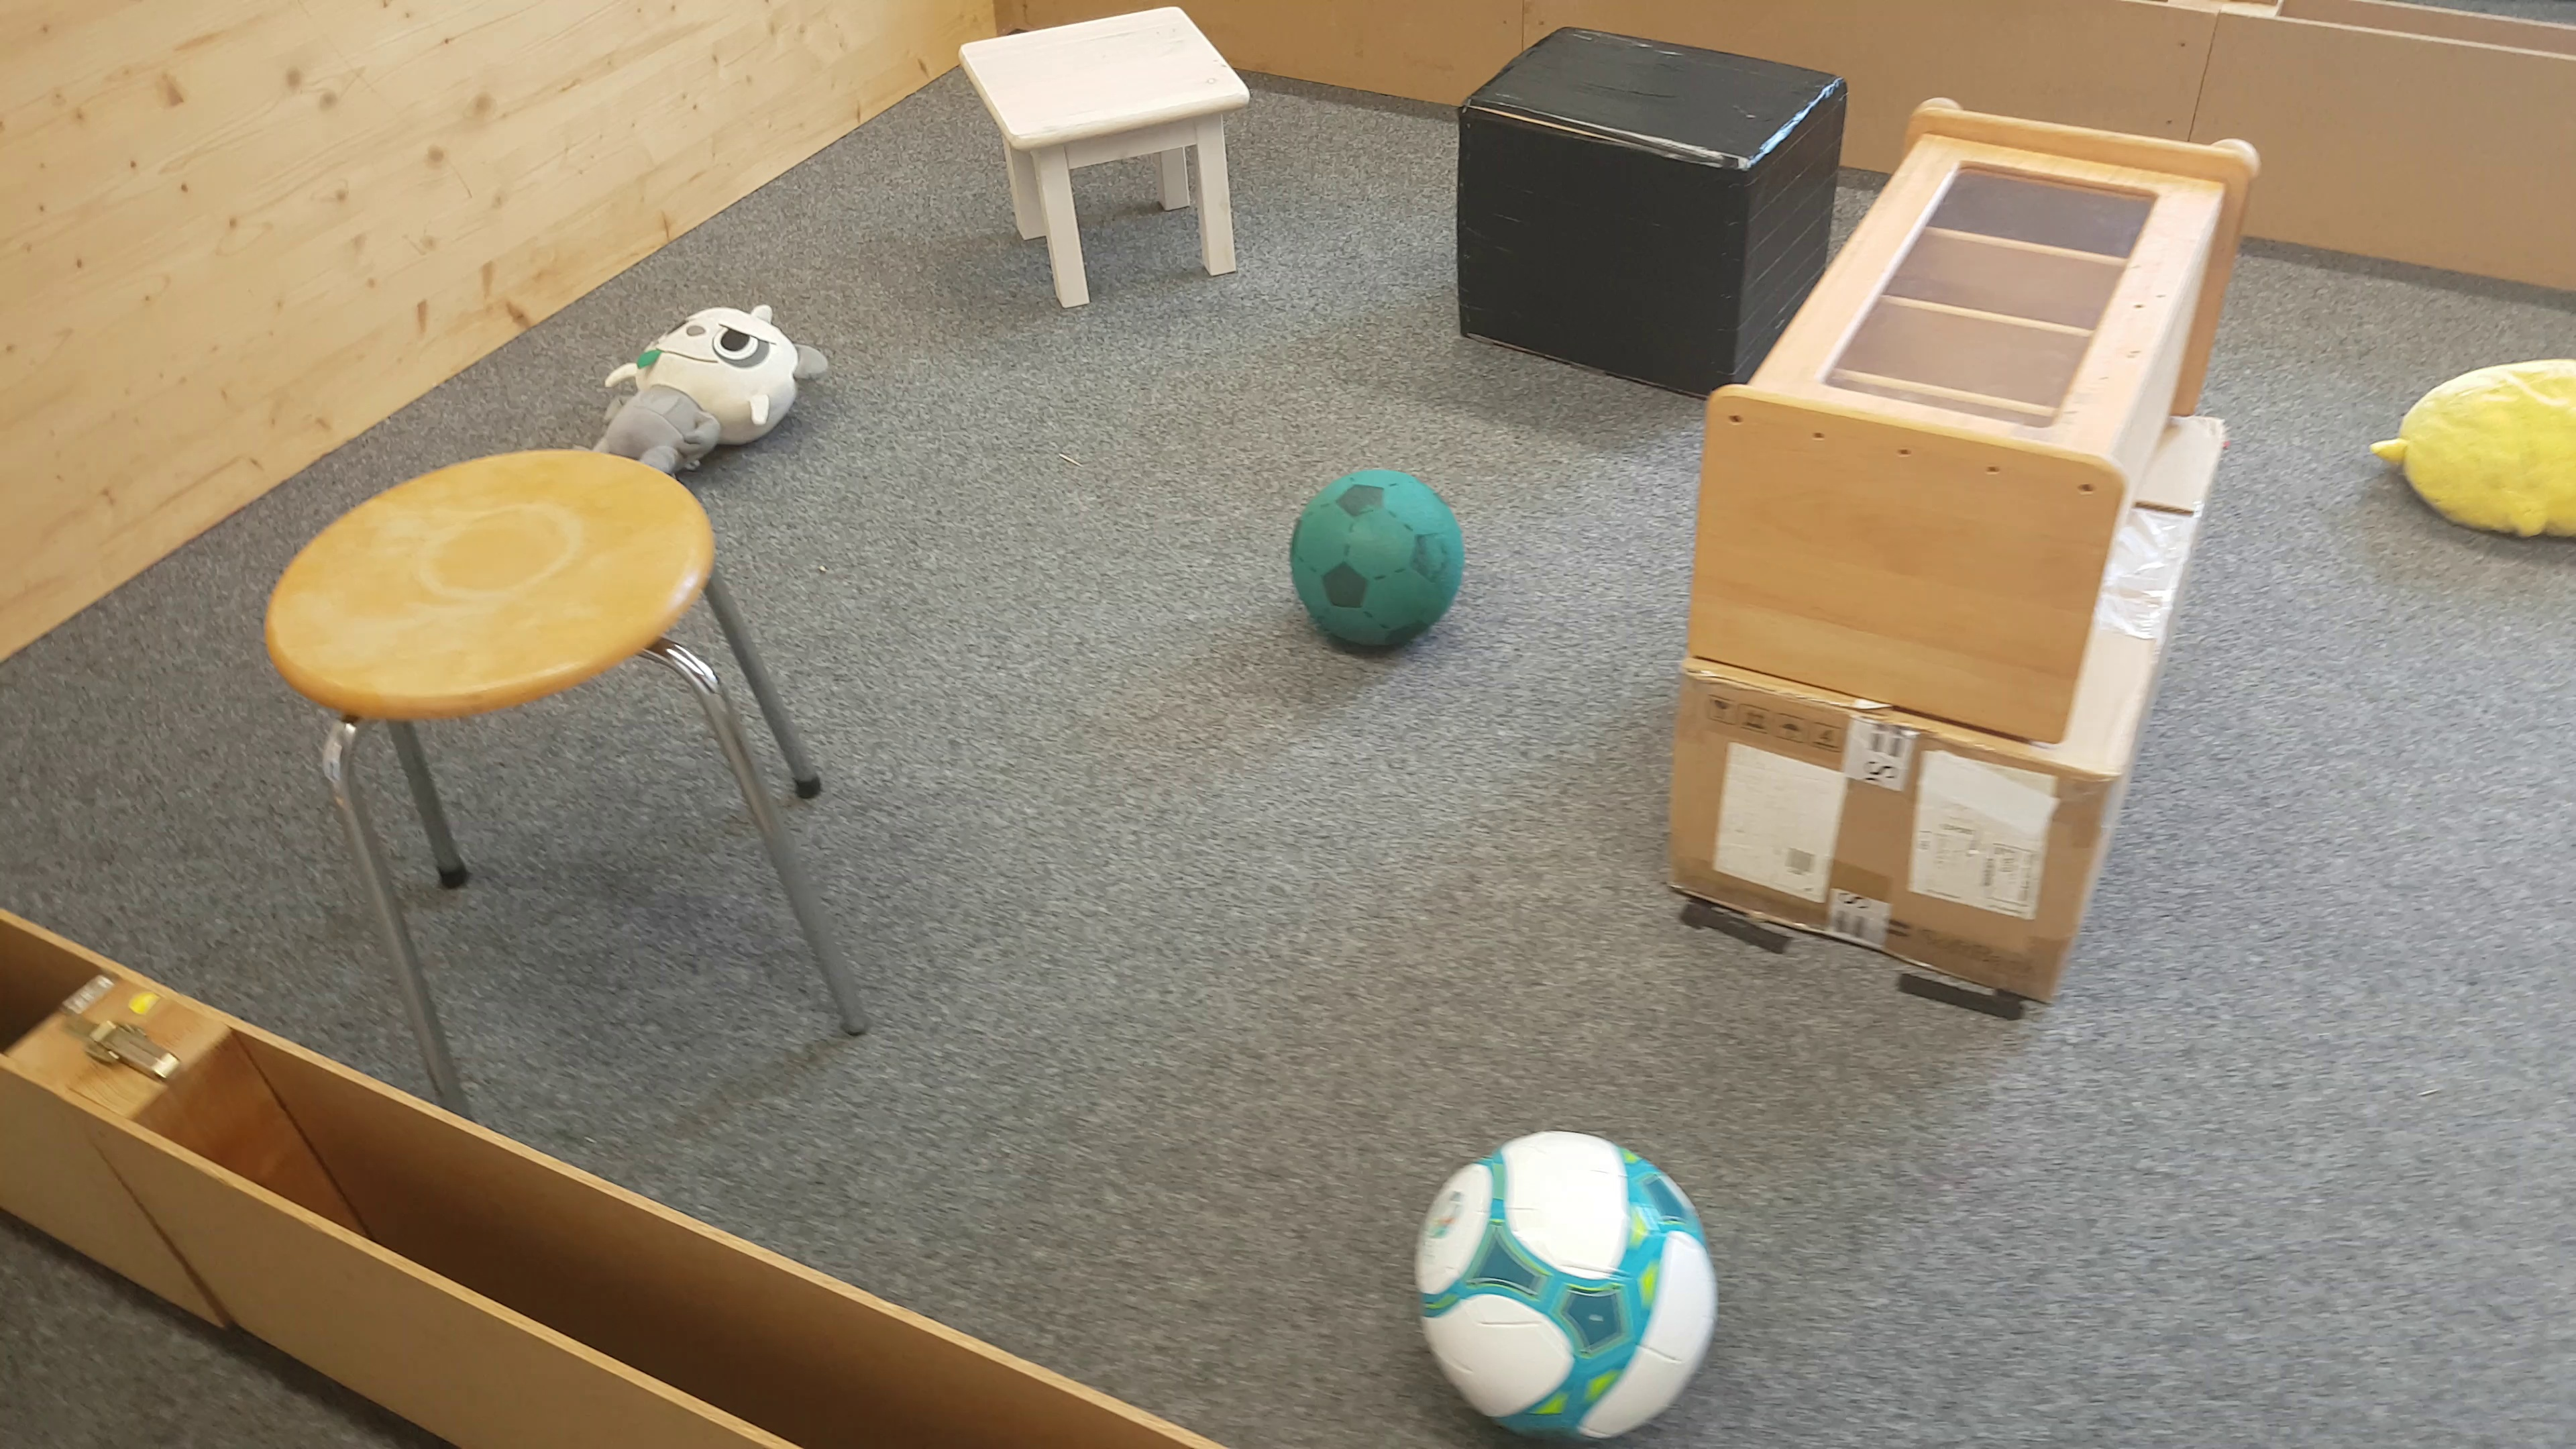grasp: (2371, 343, 2576, 548), (589, 295, 828, 449)
kick: (1417, 1125, 1727, 1449), (1292, 469, 1467, 665)
push: (1460, 23, 1741, 386)
